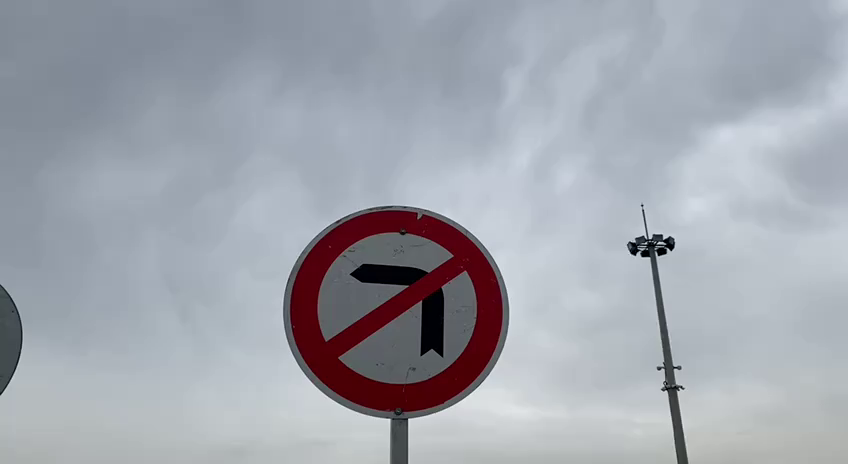noTurnLeft: (274, 199, 515, 422)
